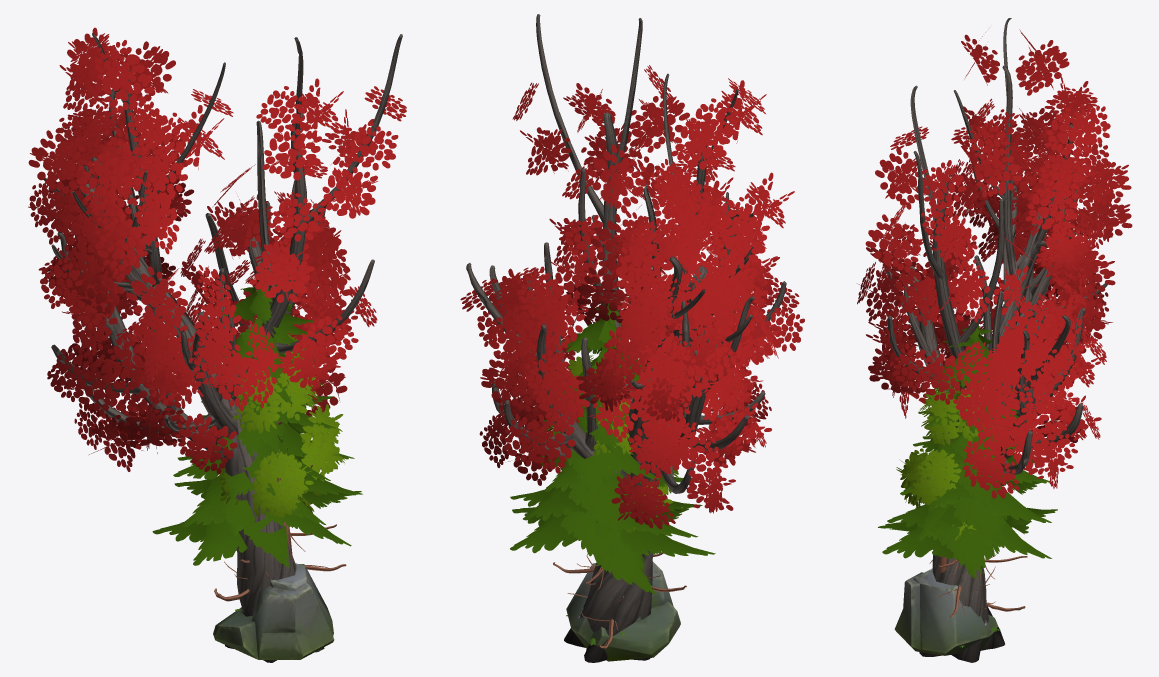
Rendered from natur.glb.
3 renders of one model, left to right at view 1: azimuth 30°, elevation 25°; view 2: azimuth 150°, elevation 25°; view 3: azimuth 270°, elevation 25°, orthographic. The views are drawn at different scales.
Visible parts, largest first — view 1: TwistedTree_2, Pine_4, CommonTree_3, Rock_Medium_1; view 2: TwistedTree_2, Pine_4, Rock_Medium_1, CommonTree_3; view 3: TwistedTree_2, Pine_4, Rock_Medium_1, CommonTree_3.
Boxes of the visible parts, box(x1,y1,x2,y2) form: TwistedTree_2: box(28, 27, 406, 662); Pine_4: box(152, 280, 362, 601); CommonTree_3: box(216, 333, 345, 561); Rock_Medium_1: box(213, 563, 334, 659); TwistedTree_2: box(460, 14, 804, 662); Pine_4: box(510, 303, 715, 648); Rock_Medium_1: box(566, 561, 680, 661); CommonTree_3: box(567, 355, 678, 533); TwistedTree_2: box(857, 18, 1132, 662); Pine_4: box(878, 325, 1057, 617); Rock_Medium_1: box(894, 568, 998, 655); CommonTree_3: box(896, 386, 1002, 572).
Bounding box in the file's own units: 9.79 × 18.02 × 8.62.
Materials: 10 (10 with a texture image).
